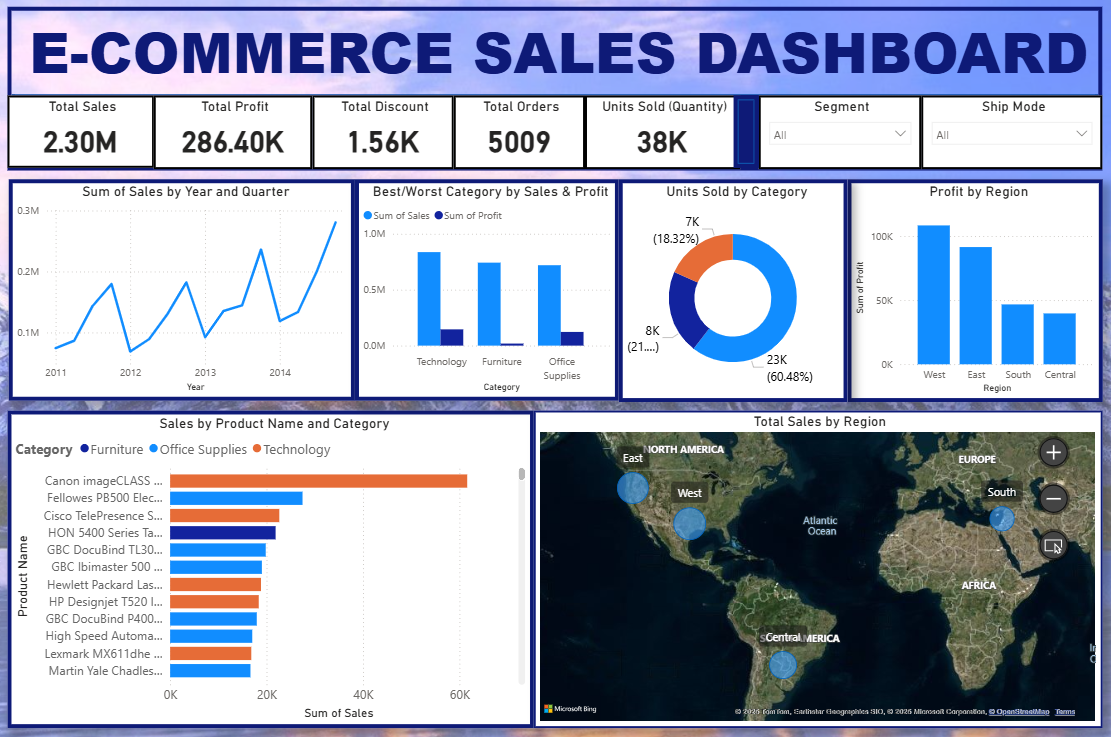

Layout of this report page (visuals, bound fields, positions):
{"tool":"powerbi","page":{"name":"Page 1","canvas":[1400,900],"ordinal":0},"visuals":[{"type":"shape","title":"E-COMMERCE SALES DASHBOARD","box":[51.3,16.3,1321.1,197.6],"z":0},{"type":"card","title":"Total Sales","fields":{"Values":["superstore.Total Sales"]},"box":[51.3,124.3,176.4,87.5],"z":1000},{"type":"card","title":"Total Profit","fields":{"Values":["superstore.Total Profit"]},"box":[227.7,124.3,191.5,89],"z":2000},{"type":"card","title":"Total Discount","fields":{"Values":["superstore.Total Discount"]},"box":[419.2,124.3,170.4,89],"z":3000},{"type":"card","title":"Total Orders","fields":{"Values":["superstore.Total Orders"]},"box":[589.6,124.3,158.3,89],"z":4000},{"type":"card","title":"Units Sold (Quantity)","fields":{"Values":["superstore.Total Quantity - Units Sold"]},"box":[748,124.3,187,89],"z":5000},{"type":"lineChart","fields":{"Y":["Sum(superstore.Sales)"],"Category":["superstore.Order Date.Variation.Date Hierarchy.Year","superstore.Order Date.Variation.Date Hierarchy.Quarter"]},"box":[52.8,224.7,417.7,266.9],"z":6000},{"type":"barChart","title":"Sales by Product Name and Category","fields":{"Category":["superstore.Product Name"],"Y":["Sum(superstore.Sales)"],"Series":["superstore.Category"]},"box":[51.3,503.7,634.9,383],"z":7000},{"type":"clusteredColumnChart","title":"Best/Worst Category by Sales & Profit","fields":{"Y":["Sum(superstore.Sales)","Sum(superstore.Profit)"],"Category":["superstore.Category"]},"box":[470.5,224.7,318.2,266.9],"z":8000},{"type":"columnChart","title":"Profit by Region","fields":{"Category":["superstore.Region"],"Y":["Sum(superstore.Profit)"]},"box":[1064.7,224.7,307.6,268.4],"z":9000},{"type":"donutChart","title":"Units Sold by Category","fields":{"Category":["superstore.Category"],"Y":["superstore.Total Quantity - Units Sold"]},"box":[788.7,224.7,276,268.4],"z":10000},{"type":"map","fields":{"Category":["superstore.Region","superstore.City","superstore.State","superstore.Country"],"Size":["superstore.Total Sales"]},"box":[686.2,503.7,686.2,383],"z":11000},{"type":"slicer","title":"Segment","fields":{"Values":["superstore.Segment"]},"box":[957.6,123.7,196,89],"z":12000},{"type":"slicer","title":"Ship Mode","fields":{"Values":["superstore.Ship Mode"]},"box":[1153.7,124.3,218.7,89],"z":13000},{"type":"shape","box":[927.5,123.7,30.2,87.5],"z":13001}]}

Visuals, with their boxes in screenshot pixels (x1, y1, x2, y2):
"E-COMMERCE SALES DASHBOARD" shape: (21,7,1093,168)
"Total Sales" card: (21,95,164,166)
"Total Profit" card: (164,95,320,167)
"Total Discount" card: (320,95,458,167)
"Total Orders" card: (458,95,587,167)
"Units Sold (Quantity)" card: (587,95,738,167)
lineChart - Sum(superstore.Sales) x superstore.Order Date.Variation.Date Hierarchy.Year: (23,177,361,393)
"Sales by Product Name and Category" barChart: (21,403,537,714)
"Best/Worst Category by Sales & Profit" clusteredColumnChart: (361,177,620,393)
"Profit by Region" columnChart: (844,177,1093,394)
"Units Sold by Category" donutChart: (620,177,844,394)
map - superstore.Region x superstore.City: (537,403,1093,714)
"Segment" slicer: (757,95,916,167)
"Ship Mode" slicer: (916,95,1093,167)
shape: (732,95,757,166)
